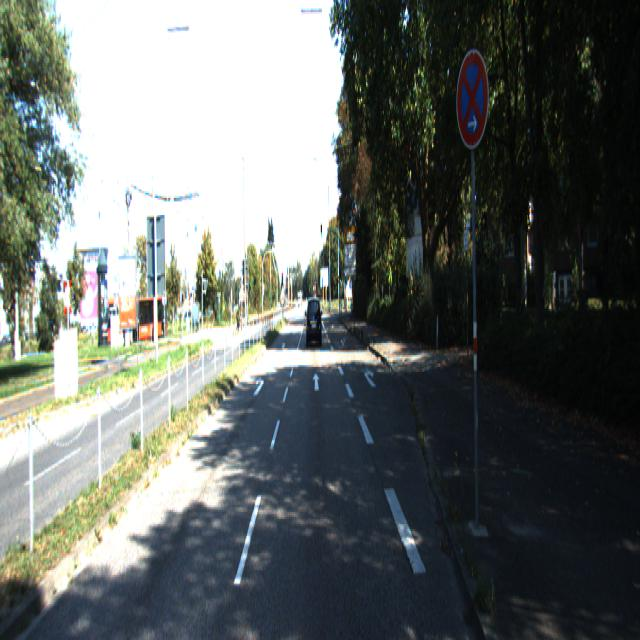Car: (103, 297, 167, 346), (306, 300, 322, 350)
